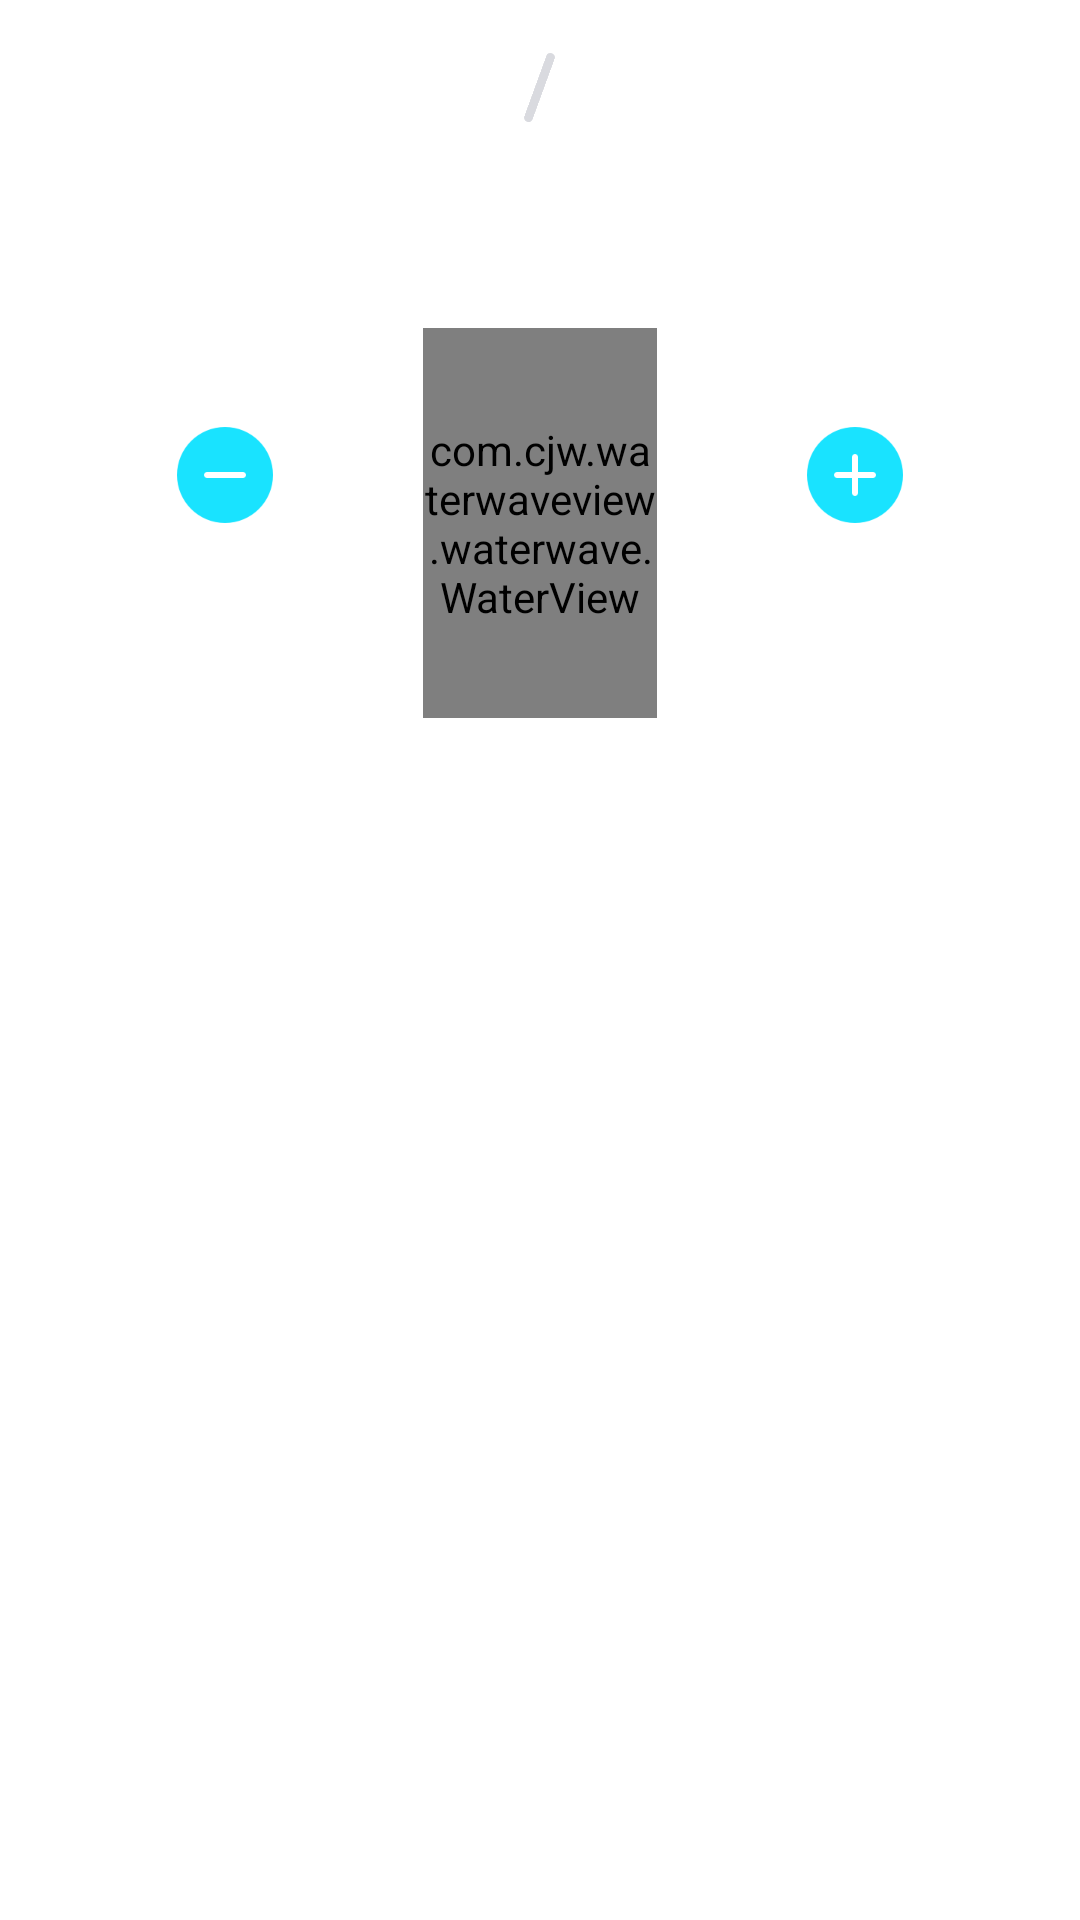

Where to tap for icons on this 1080w x 1920h app screen, as (x=x, y=y):
decrease: (x=225, y=475)
increase: (x=855, y=475)
